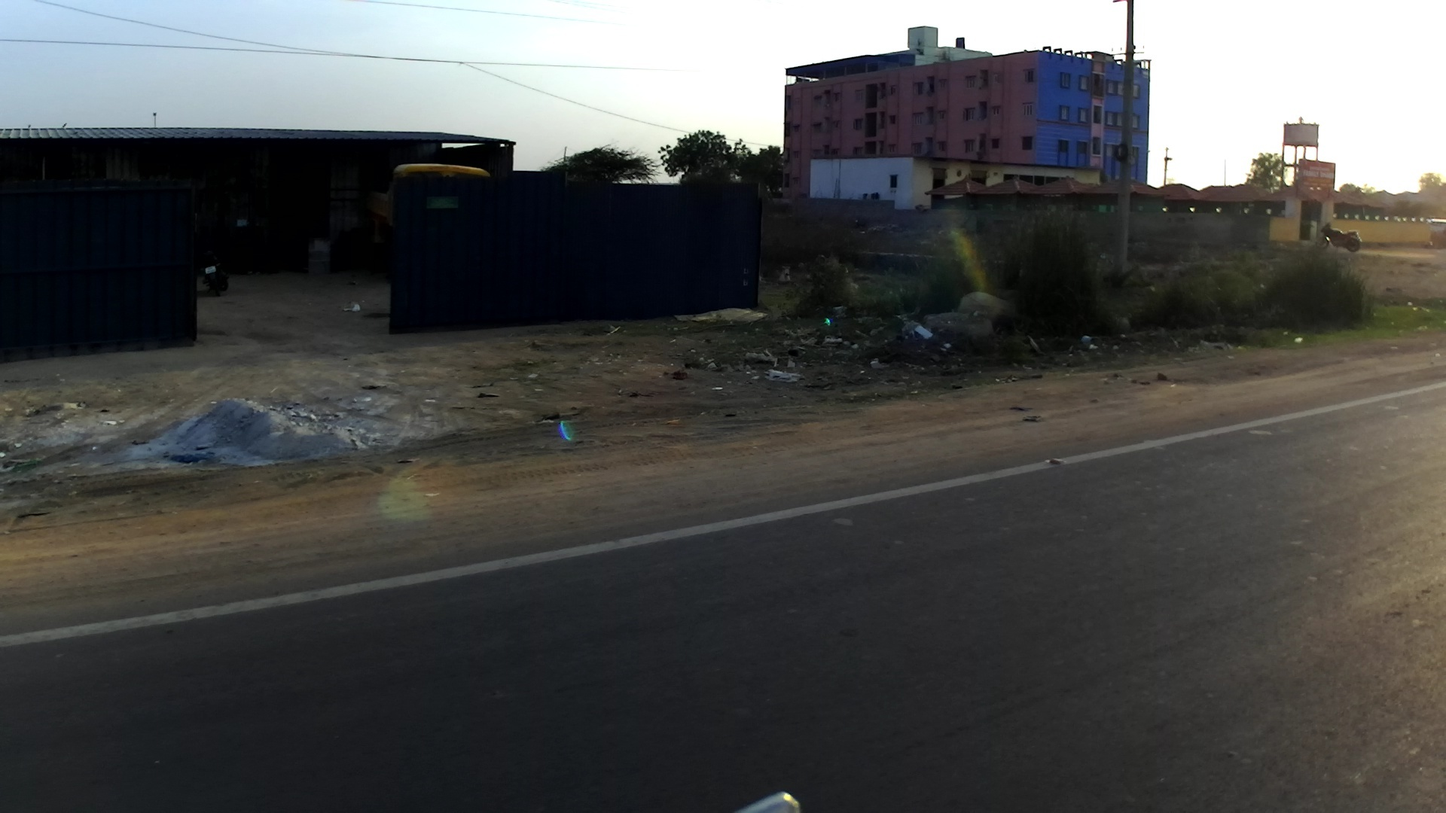motorcycle: (1307, 222, 1368, 265), (196, 246, 236, 307)
truck: (354, 148, 489, 277)
